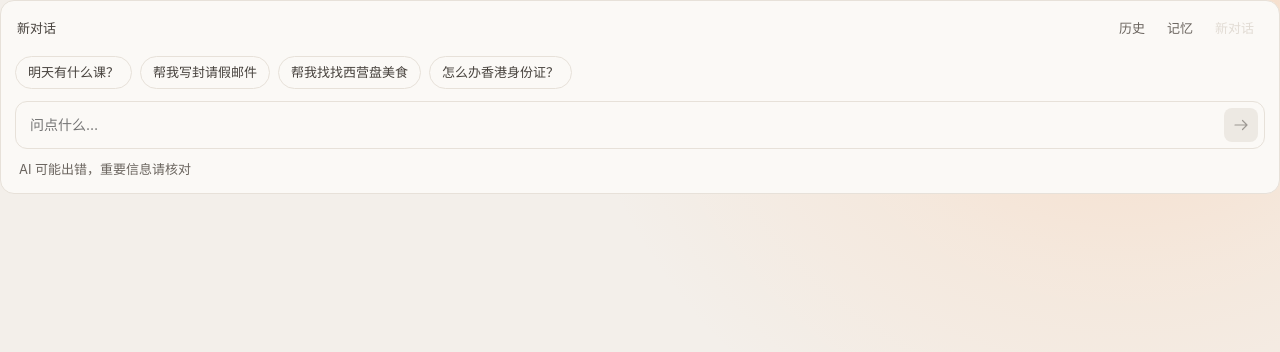
it: shows what was remembered with an undo
This screenshot has width=1280, height=352.
In the text box named "给 AI 助手的消息": (622, 125) [30,108,1214,141], type "我不吃辣"
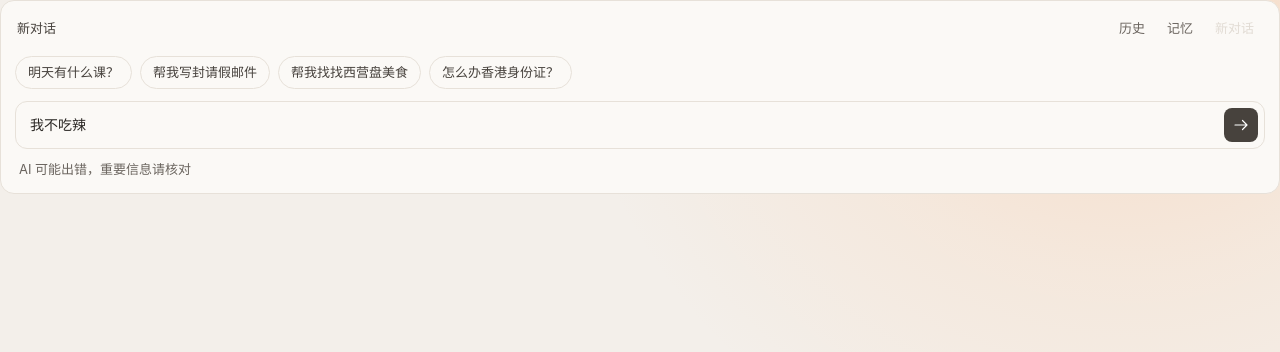
Click the button named "发送": (1241, 125) [1224,108,1258,142]
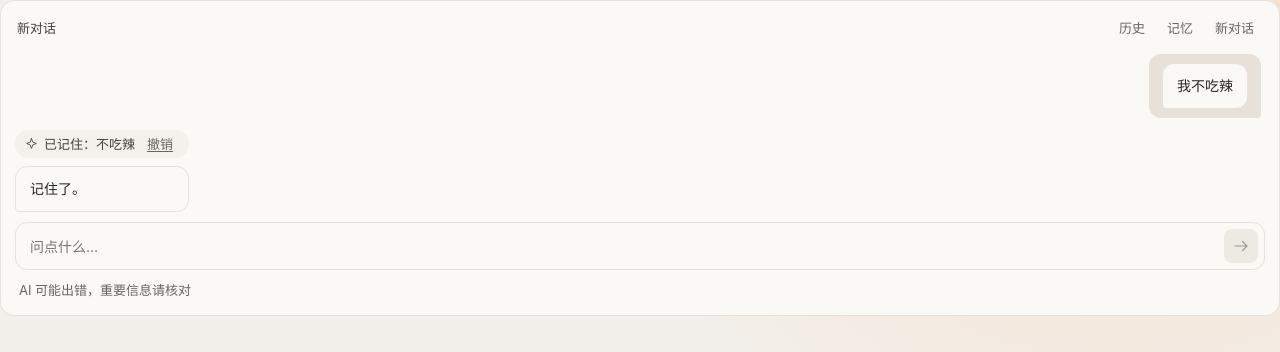
Result: the text "已记住：不吃辣" is shown at [44,134,135,154]
Click the button "撤销": (160, 144) [141,133,179,155]
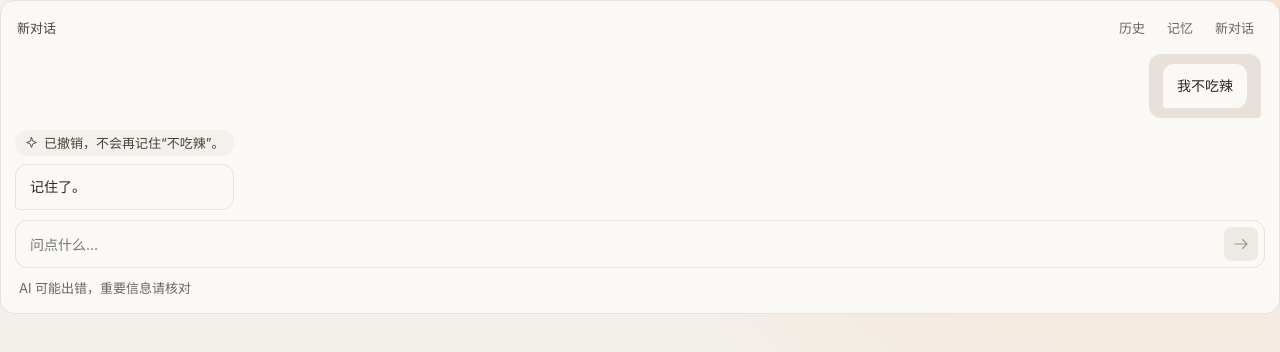
Result: the text "已撤销，不会再记住“不吃辣”。" is shown at [44,133,224,153]
